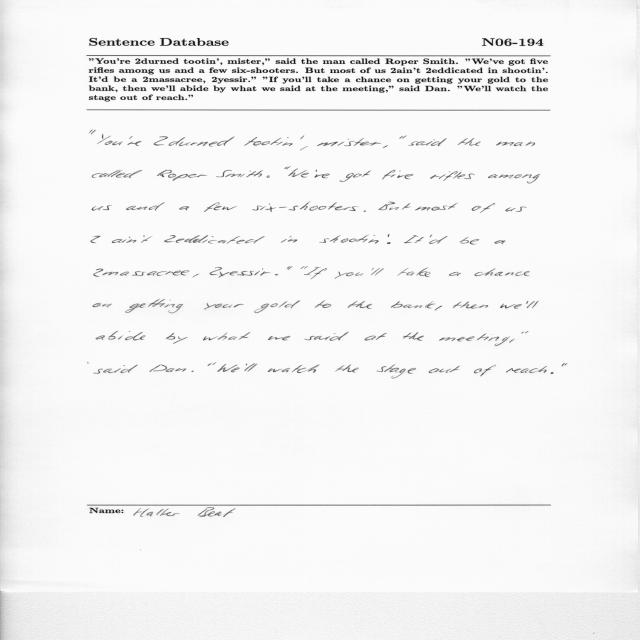word: (439, 331, 529, 346), (252, 202, 359, 212), (164, 235, 265, 244), (154, 136, 235, 147), (125, 300, 183, 314), (94, 269, 190, 277), (210, 267, 271, 278), (506, 363, 565, 374), (319, 235, 390, 244), (244, 136, 304, 146), (157, 169, 207, 181), (376, 364, 416, 379), (254, 300, 300, 313), (488, 174, 540, 184), (317, 138, 381, 146), (335, 268, 380, 279), (91, 235, 152, 243), (268, 364, 319, 373), (430, 171, 475, 181), (96, 332, 145, 341), (475, 269, 530, 277), (92, 170, 142, 178), (305, 332, 349, 341), (94, 365, 138, 374), (203, 333, 250, 341), (126, 202, 165, 211), (415, 203, 458, 211), (340, 171, 371, 182), (204, 202, 237, 212), (216, 170, 263, 177), (382, 170, 413, 180), (391, 301, 435, 308), (409, 138, 447, 146), (97, 134, 123, 145), (304, 267, 327, 279), (375, 268, 409, 276), (378, 202, 411, 210), (150, 365, 186, 372), (406, 267, 431, 277), (453, 302, 488, 309), (474, 365, 496, 376), (472, 203, 496, 213), (204, 303, 244, 309), (218, 364, 248, 372), (166, 333, 187, 344), (429, 366, 460, 373), (496, 142, 535, 147), (348, 301, 372, 309), (335, 365, 359, 373), (288, 169, 309, 178), (403, 332, 424, 341), (458, 138, 481, 146), (364, 333, 387, 341), (429, 235, 447, 244), (404, 235, 424, 243), (128, 136, 142, 146), (315, 170, 330, 179), (460, 237, 479, 244), (315, 300, 331, 308), (92, 205, 112, 211), (281, 236, 298, 243), (245, 363, 258, 372), (505, 207, 527, 212), (500, 304, 522, 309), (526, 301, 539, 308), (268, 336, 290, 340), (93, 303, 112, 307), (449, 272, 461, 276), (179, 206, 190, 210), (495, 240, 506, 244), (300, 146, 308, 151), (89, 130, 96, 135), (435, 306, 442, 311), (399, 135, 407, 139), (509, 339, 515, 343), (208, 363, 216, 366), (193, 274, 199, 277), (383, 145, 388, 148), (287, 267, 292, 270), (301, 267, 308, 269), (266, 175, 270, 178), (285, 167, 290, 169), (565, 363, 568, 366), (387, 242, 391, 244), (191, 370, 194, 372), (364, 210, 366, 212), (275, 274, 279, 275)
